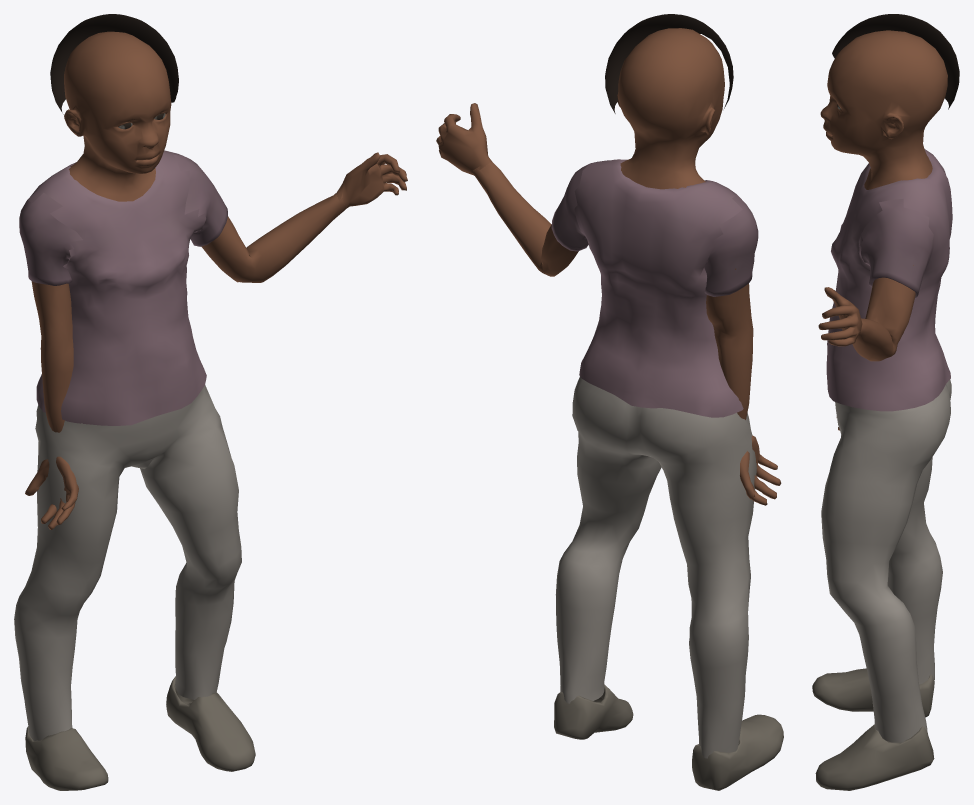
Rendered from participant-15-middle.glb.
The picture shows the model from 3 angles, left to right: view 1: azimuth 30°, elevation 25°; view 2: azimuth 150°, elevation 25°; view 3: azimuth 270°, elevation 25°; orthographic projection. The views are drawn at different scales.
Visible parts, largest first — view 1: Participant anatomy and ordinary clothes; view 2: Participant anatomy and ordinary clothes; view 3: Participant anatomy and ordinary clothes.
Part boxes in pixels (x1,y1,x2,y2): Participant anatomy and ordinary clothes: (14,14,407,790); Participant anatomy and ordinary clothes: (436,14,783,790); Participant anatomy and ordinary clothes: (812,14,959,790).
Size of the model in its own units: 0.5868 by 1.2 by 0.2226.
